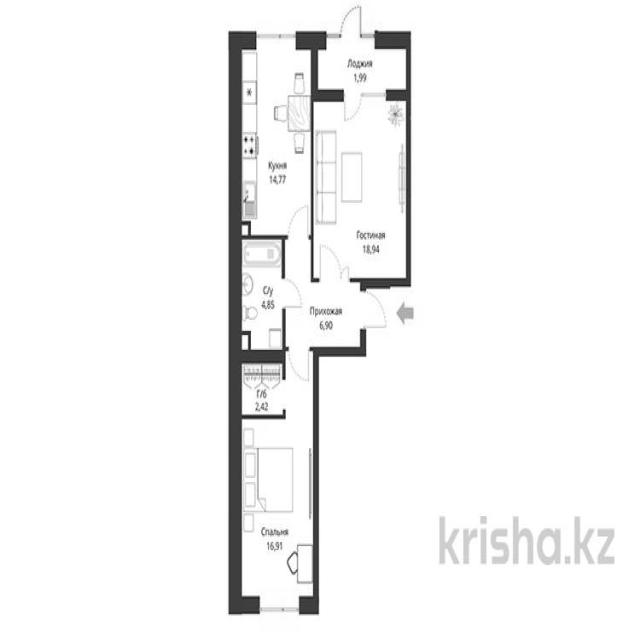balcony: (314, 35, 407, 94)
bathroom: (239, 240, 285, 352)
hallway: (286, 241, 362, 414)
kitchen: (240, 44, 312, 237)
living_room: (314, 98, 408, 280), (239, 420, 315, 607)
other: (238, 362, 284, 415)
